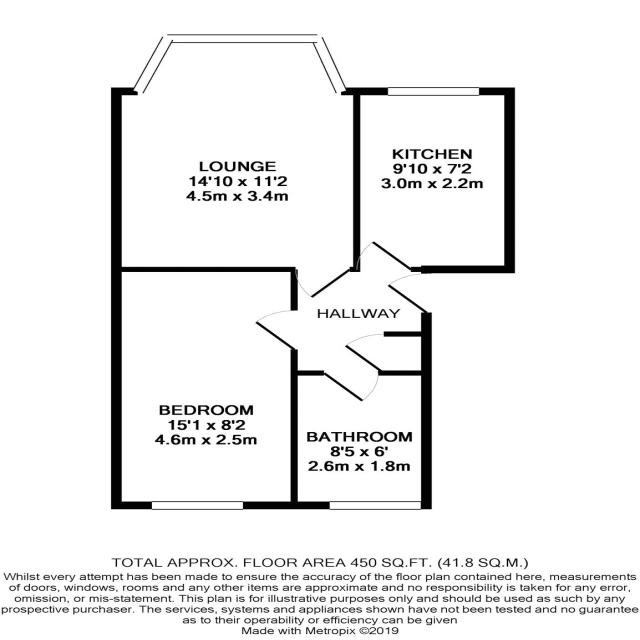DOOR: (252, 309, 299, 352), (355, 239, 413, 273), (322, 370, 381, 403), (341, 332, 385, 375), (294, 266, 351, 299), (386, 273, 433, 313)
ROOM: (110, 33, 361, 300), (110, 267, 298, 510), (353, 87, 516, 274)
WINDOW: (130, 35, 175, 95), (312, 35, 349, 97), (166, 34, 322, 43), (329, 501, 423, 511), (150, 501, 245, 510), (387, 87, 480, 96)
